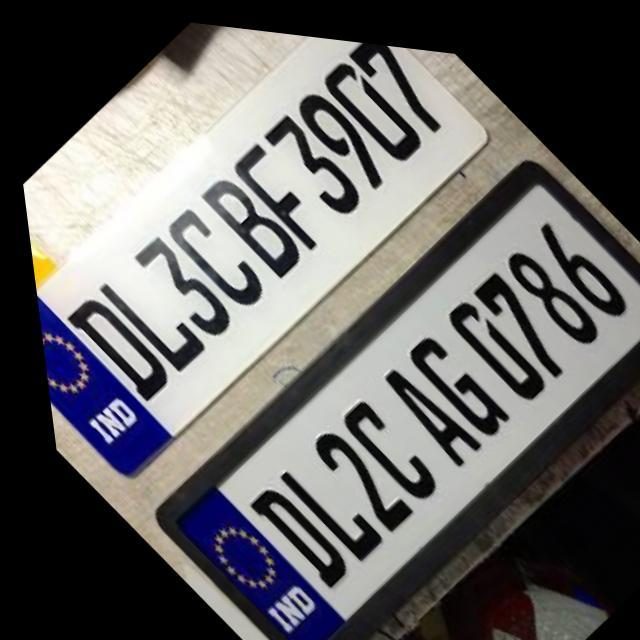license_plate: (97, 100, 640, 640)
